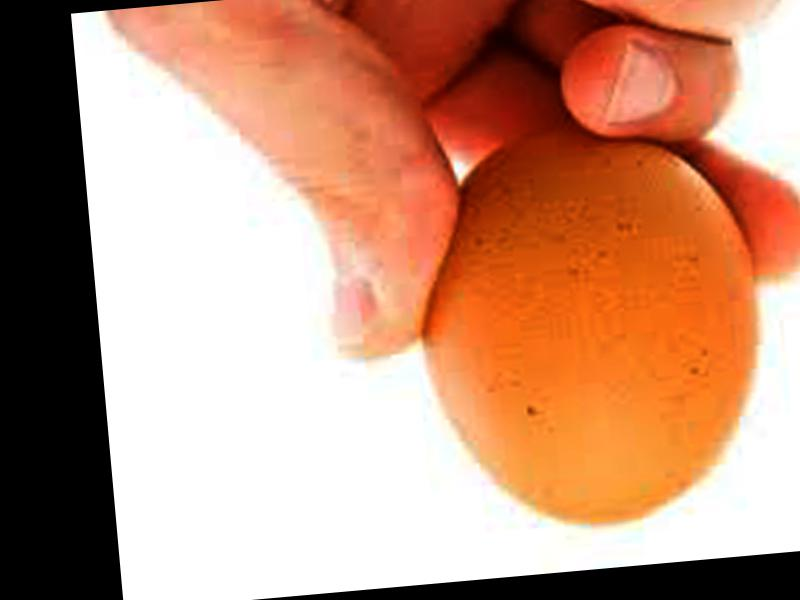Eggs: (406, 122, 777, 541)
